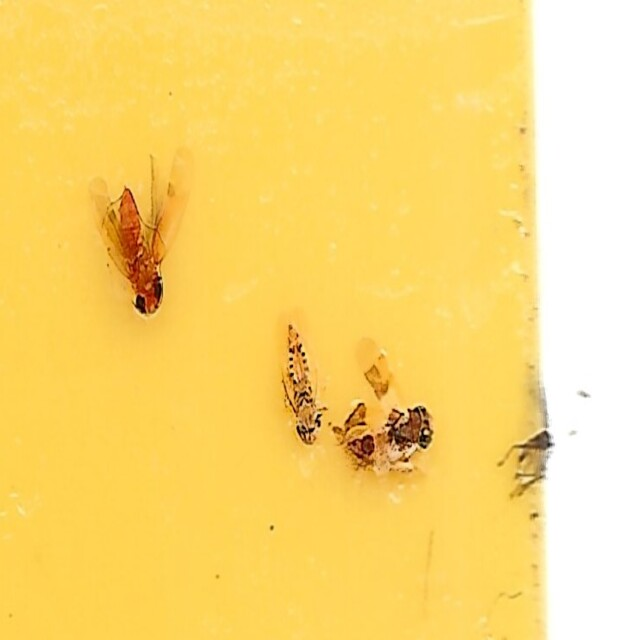Hemiptera: (86, 138, 194, 321), (327, 333, 436, 487), (271, 306, 329, 456)
Nematocera: (499, 359, 554, 502)
